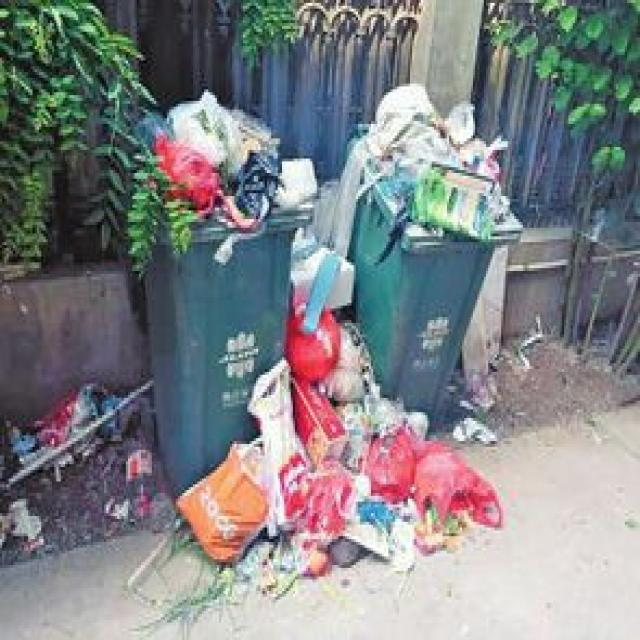garbage: (174, 228, 501, 602), (0, 380, 150, 545)
overflow: (139, 89, 312, 496), (345, 80, 521, 430)
